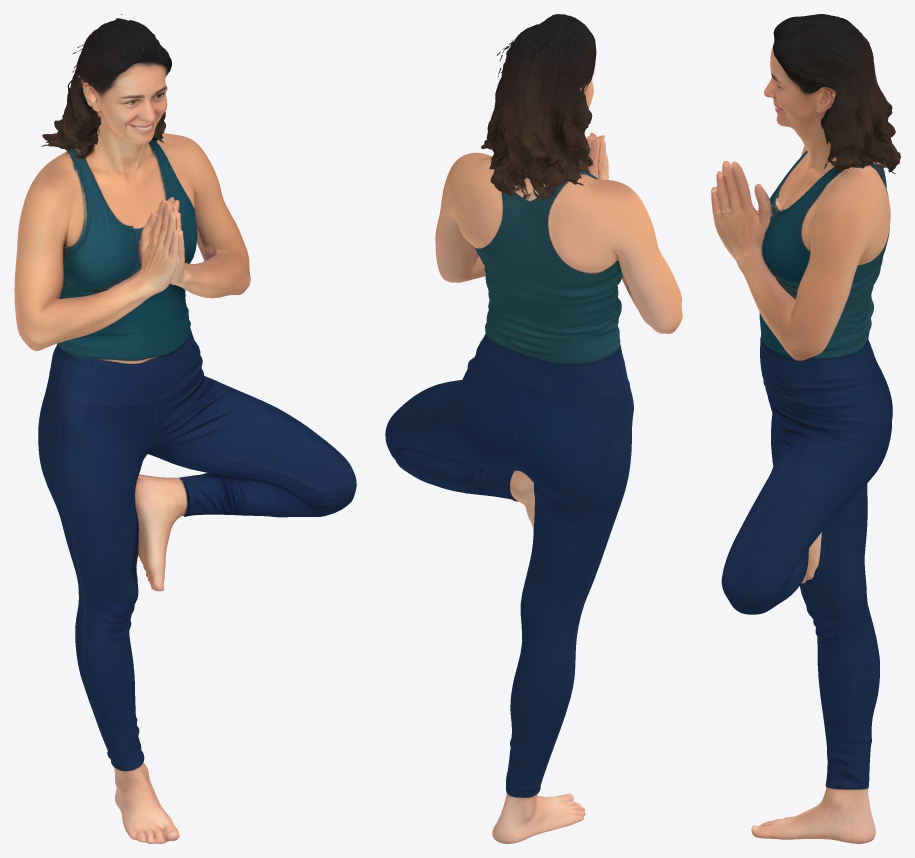
Rendered from tree-pose-real.glb.
3 renders of one model, left to right at view 1: azimuth 30°, elevation 25°; view 2: azimuth 150°, elevation 25°; view 3: azimuth 270°, elevation 25°, orthographic.
Parts seen in each view (by area): view 1: mesh_0; view 2: mesh_0; view 3: mesh_0.
Boxes of the visible parts, box(x1,y1,x2,y2) form: mesh_0: box(14, 14, 356, 843); mesh_0: box(385, 14, 682, 843); mesh_0: box(711, 14, 900, 843).
Size of the model in its own units: 0.7673 by 1.9 by 0.4018.
Materials: 1 (1 with a texture image).
